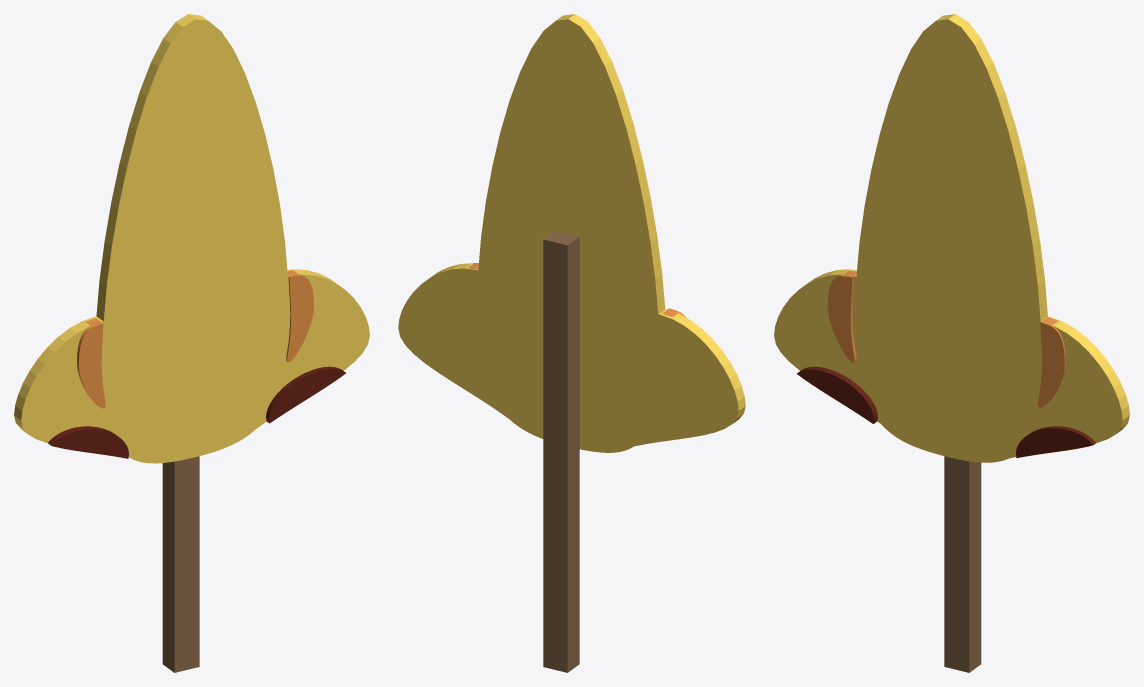
File: nez.glb
3 renders of one model, left to right at view 1: azimuth 30°, elevation 25°; view 2: azimuth 150°, elevation 25°; view 3: azimuth 330°, elevation 25°, orthographic. The views are drawn at different scales.
Bounding box in the file's own units: 0.8334 × 1.5 × 0.101.
